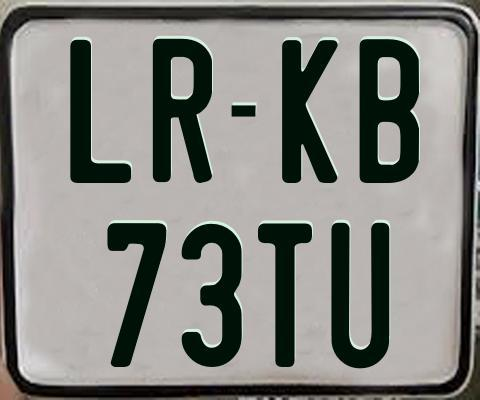3: (179, 224, 245, 369)
7: (104, 222, 169, 367)
B: (359, 38, 424, 182)
K: (282, 38, 338, 186)
L: (68, 39, 135, 182)
R: (150, 36, 214, 180)
T: (255, 223, 312, 373)
U: (331, 223, 390, 368)
